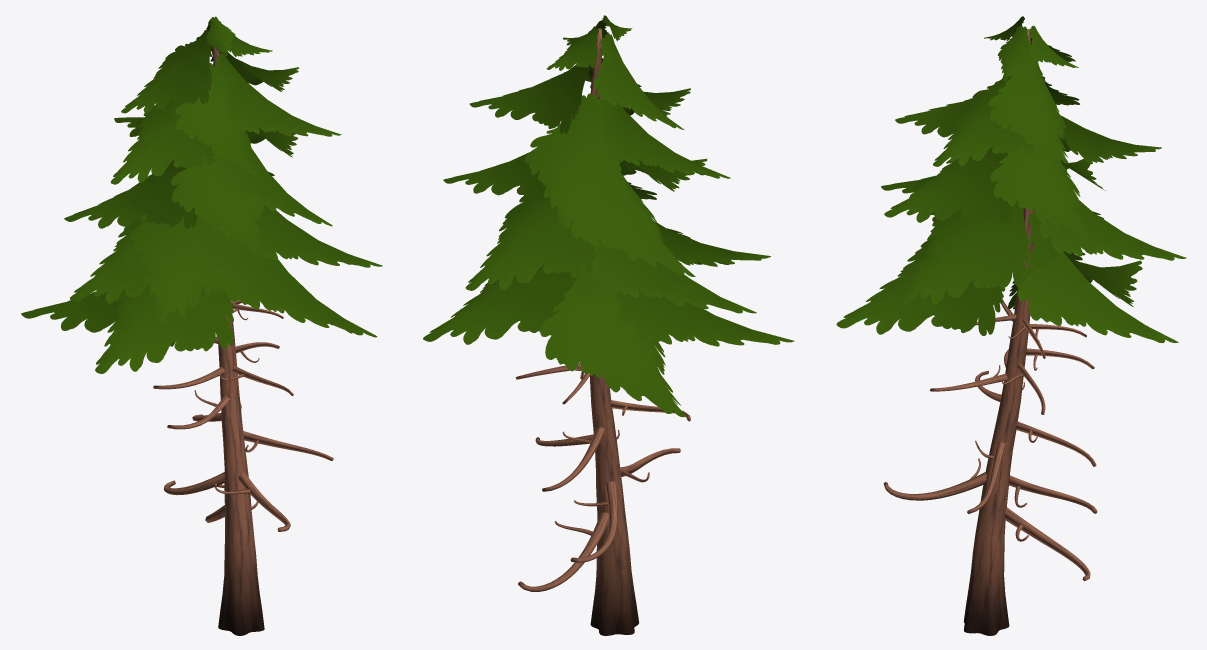
File: Pine_3.glb
The picture shows the model from 3 angles, left to right: view 1: azimuth 30°, elevation 25°; view 2: azimuth 150°, elevation 25°; view 3: azimuth 270°, elevation 25°; orthographic projection. The views are drawn at different scales.
Parts seen in each view (by area): view 1: Pine_3; view 2: Pine_3; view 3: Pine_3.
Part boxes in pixels (box(x1,y1,x2,y2)): Pine_3: box(21, 16, 382, 635); Pine_3: box(423, 15, 794, 635); Pine_3: box(836, 16, 1186, 635).
Bounding box in the file's own units: 3.61 × 7.39 × 4.
Materials: 2 (2 with a texture image).
